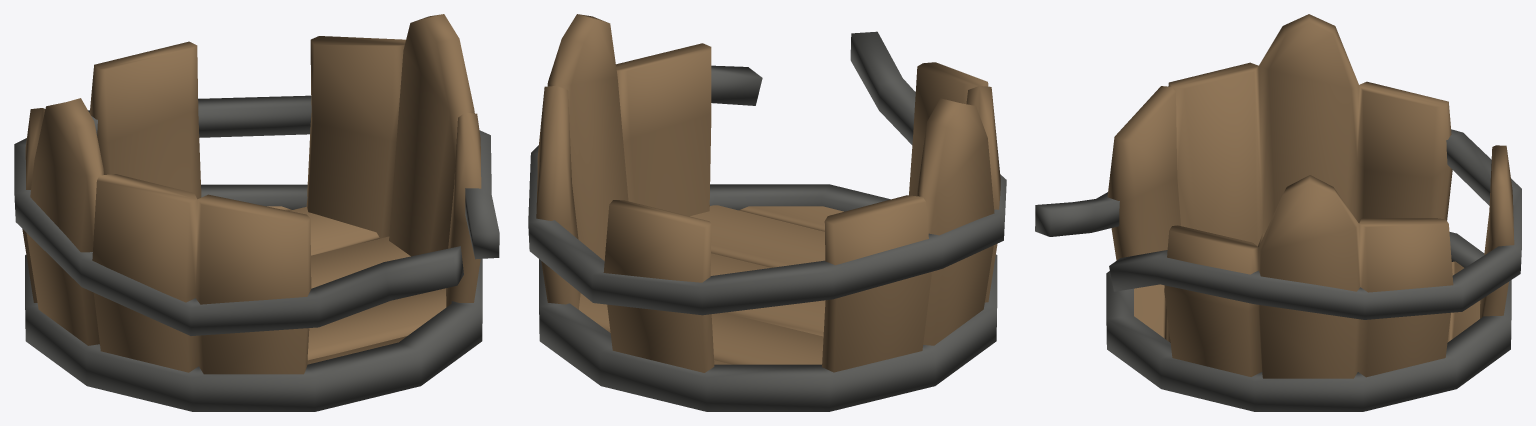
The model's file is rpgpp_av_bathtub_wood_01b.gltf.
3 renders of one model, left to right at view 1: azimuth 30°, elevation 25°; view 2: azimuth 150°, elevation 25°; view 3: azimuth 270°, elevation 25°, orthographic. The views are drawn at different scales.
Parts seen in each view (by area): view 1: rpgpp_av_bathtub_wood_01b; view 2: rpgpp_av_bathtub_wood_01b; view 3: rpgpp_av_bathtub_wood_01b.
Boxes of the visible parts, bbox=[...] form: rpgpp_av_bathtub_wood_01b: bbox=[14, 14, 499, 411]; rpgpp_av_bathtub_wood_01b: bbox=[528, 14, 1006, 411]; rpgpp_av_bathtub_wood_01b: bbox=[1035, 14, 1521, 411].
Size of the model in its own units: 0.013 by 0.00782 by 0.015.
1 material, 1 textured.
